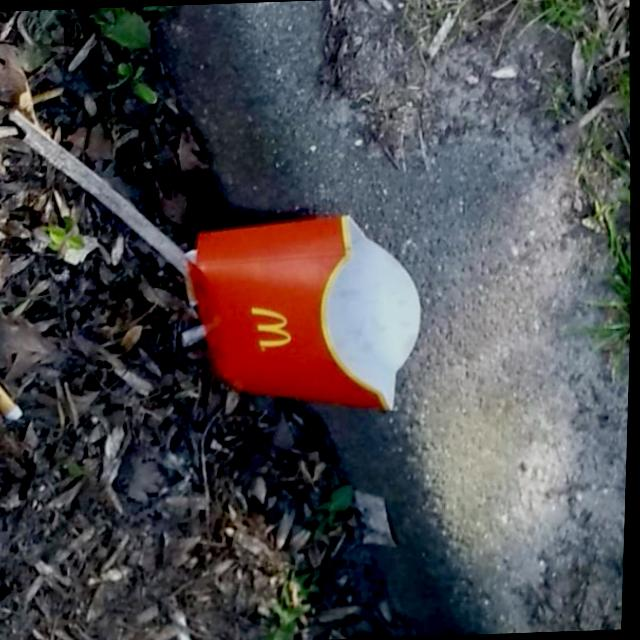Paper: (180, 208, 428, 419)
